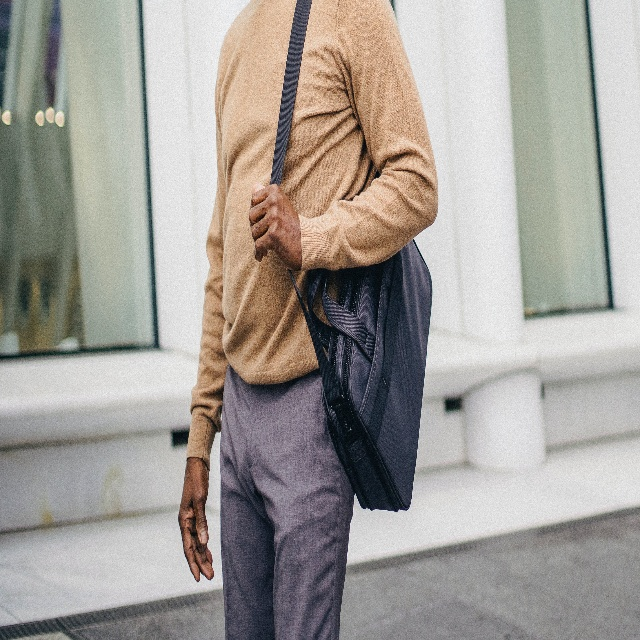Sin_guantes: (177, 455, 218, 583), (247, 181, 303, 271)
